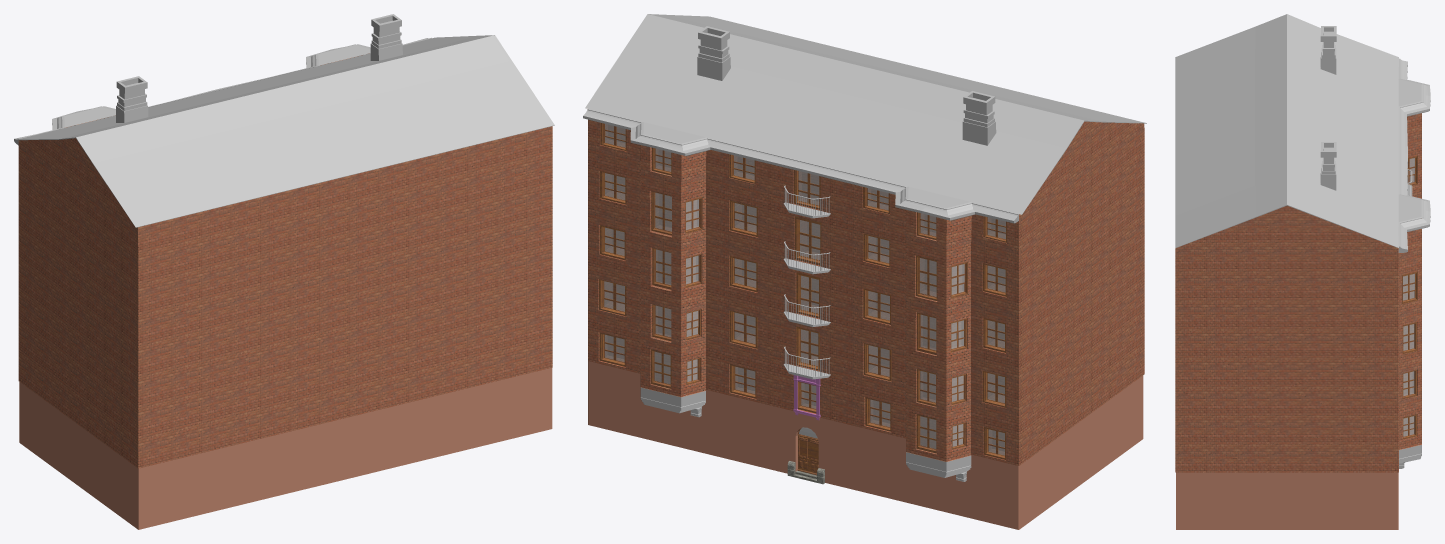
File: Apartment3.fbx
3 renders of one model, left to right at view 1: azimuth 30°, elevation 25°; view 2: azimuth 150°, elevation 25°; view 3: azimuth 270°, elevation 25°, orthographic. The views are drawn at different scales.
Parts seen in each view (by area): view 1: Apartment3, FullHouse.139, Apartment3.008, Apartment3.004, Apartment3.006, Apartment3.003, Apartment3.007, Apartment3.005, Apartment3.002, 5th_L_C.007; view 2: Apartment3, FullHouse.139, Apartment3.008, Apartment3.006, Apartment3.004, Apartment3.002, 5th_L_C.007, Cube.006, Apartment3.005, Apartment3.003, Apartment3.007, Apartment3.001 (+29 smaller); view 3: Apartment3, FullHouse.139, Apartment3.002, 5th_L_C.007, FullHouse.216, FullHouse.220, FullHouse.221, Apartment3.001, FullHouse.224.
Part boxes in pixels (x1=…): Apartment3: x1=18, y1=53, x2=552, y2=468; FullHouse.139: x1=14, y1=35, x2=554, y2=227; Apartment3.008: x1=19, y1=382, x2=184, y2=529; Apartment3.004: x1=370, y1=395, x2=438, y2=472; Apartment3.006: x1=246, y1=426, x2=313, y2=503; Apartment3.003: x1=438, y1=380, x2=501, y2=456; Apartment3.007: x1=184, y1=442, x2=246, y2=518; Apartment3.005: x1=313, y1=412, x2=370, y2=486; Apartment3.002: x1=501, y1=368, x2=552, y2=441; 5th_L_C.007: x1=116, y1=14, x2=402, y2=122; Apartment3: x1=588, y1=119, x2=1144, y2=465; FullHouse.139: x1=583, y1=14, x2=1146, y2=223; Apartment3.008: x1=971, y1=375, x2=1143, y2=529; Apartment3.006: x1=835, y1=421, x2=906, y2=502; Apartment3.004: x1=706, y1=390, x2=776, y2=470; Apartment3.002: x1=588, y1=361, x2=641, y2=437; 5th_L_C.007: x1=697, y1=26, x2=996, y2=145; Cube.006: x1=783, y1=185, x2=830, y2=379; Apartment3.005: x1=776, y1=407, x2=835, y2=485; Apartment3.003: x1=641, y1=390, x2=706, y2=453; Apartment3.007: x1=906, y1=454, x2=971, y2=518; Apartment3.001: x1=640, y1=387, x2=971, y2=481; Apartment3: x1=1175, y1=113, x2=1421, y2=472; FullHouse.139: x1=1175, y1=14, x2=1430, y2=252; Apartment3.002: x1=1176, y1=472, x2=1398, y2=529; 5th_L_C.007: x1=1320, y1=26, x2=1336, y2=190; FullHouse.216: x1=1402, y1=271, x2=1417, y2=303; FullHouse.220: x1=1402, y1=322, x2=1416, y2=353; FullHouse.221: x1=1402, y1=369, x2=1416, y2=399; Apartment3.001: x1=1399, y1=445, x2=1421, y2=468; FullHouse.224: x1=1403, y1=414, x2=1416, y2=439.
Bounding box in the file's own units: 28.35 × 23.91 × 16.06.
